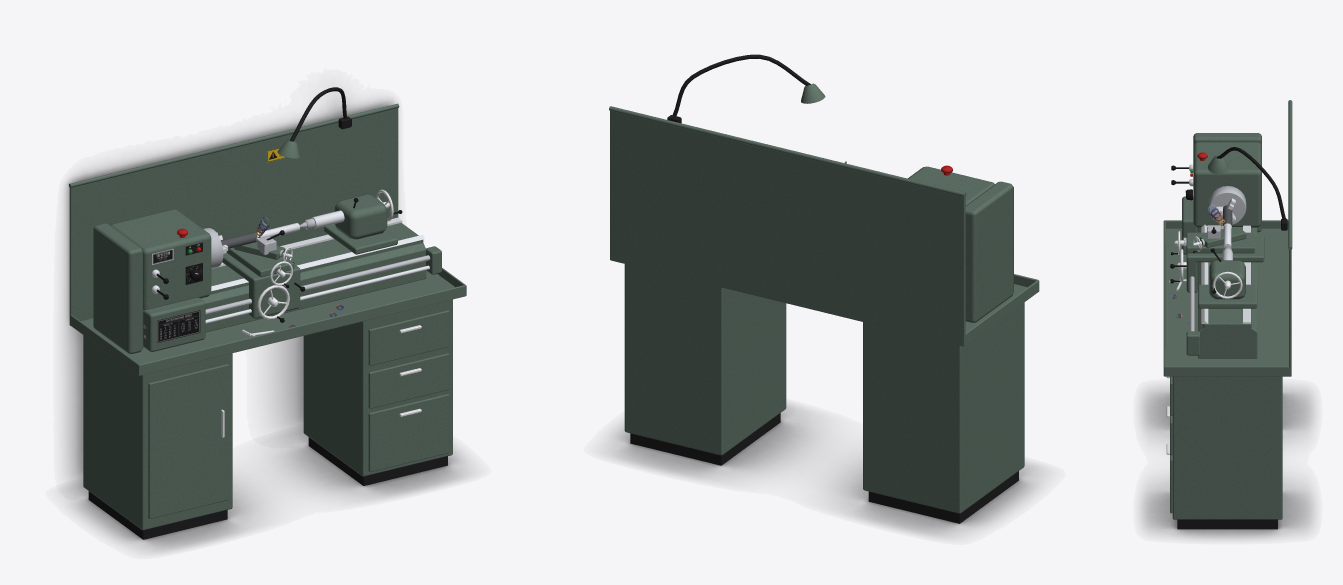
File: metal_lathe.glb
3 renders of one model, left to right at view 1: azimuth 30°, elevation 25°; view 2: azimuth 150°, elevation 25°; view 3: azimuth 270°, elevation 25°, orthographic. The views are drawn at different scales.
Visible parts, largest first — view 1: metal_lathe_LOD0, metal_lathe_Shadow; view 2: metal_lathe_LOD0, metal_lathe_Shadow; view 3: metal_lathe_LOD0, metal_lathe_Shadow.
Boxes of the visible parts, x1,y1,x2,y2 form: metal_lathe_LOD0: [69, 87, 466, 539]; metal_lathe_Shadow: [63, 100, 467, 551]; metal_lathe_LOD0: [609, 54, 1039, 523]; metal_lathe_Shadow: [611, 404, 1039, 535]; metal_lathe_LOD0: [1163, 100, 1292, 529]; metal_lathe_Shadow: [1142, 387, 1312, 538].
Size of what is drawn, in the model's own units: 1.84 by 1.87 by 0.883.
Materials: 4 (4 with a texture image).
